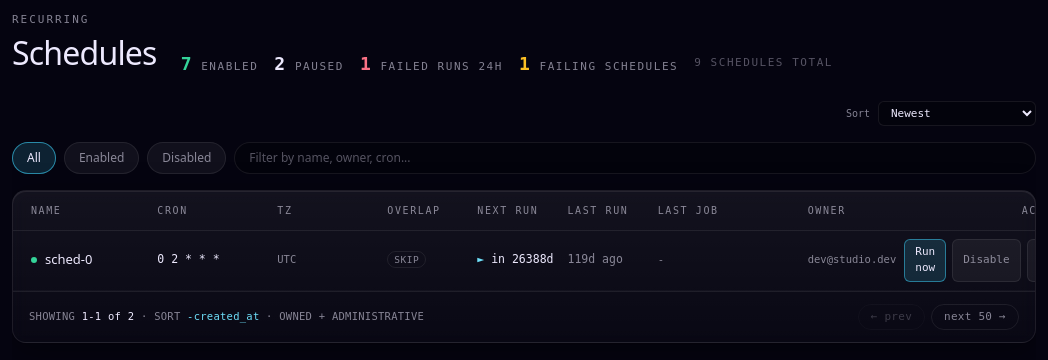
Test: changing the sort after paging forward resets the cursor
The image size is (1048, 360).
Expected: the link "sched-0" is shown, [45, 250, 92, 270]
Click the button "next 50 →" at (975, 317), box [931, 304, 1019, 330]
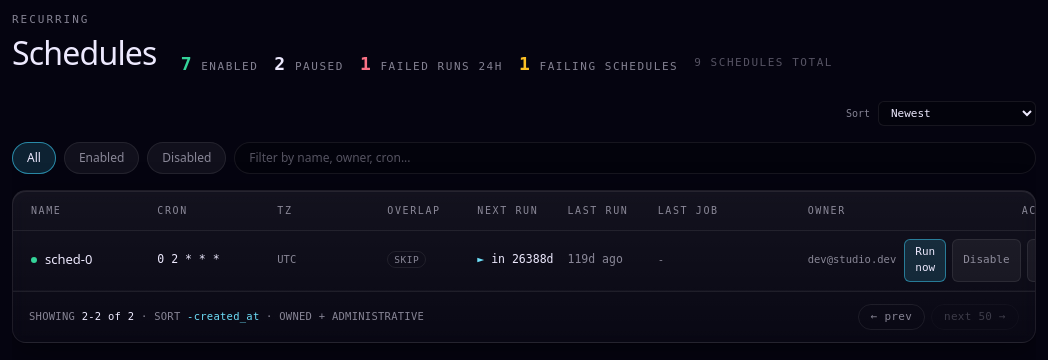
Select "Name A->Z" in the dropdown labelled "Sort" at (957, 113), box [878, 100, 1036, 126]
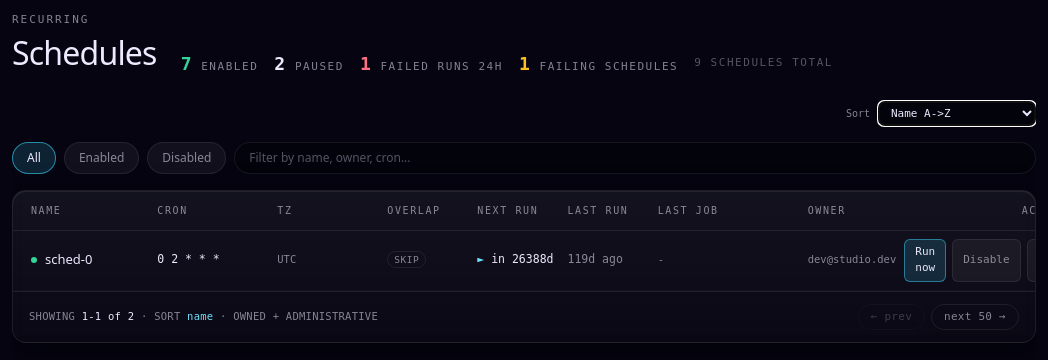
Expected: the text "name" is shown, [187, 310, 213, 322]
